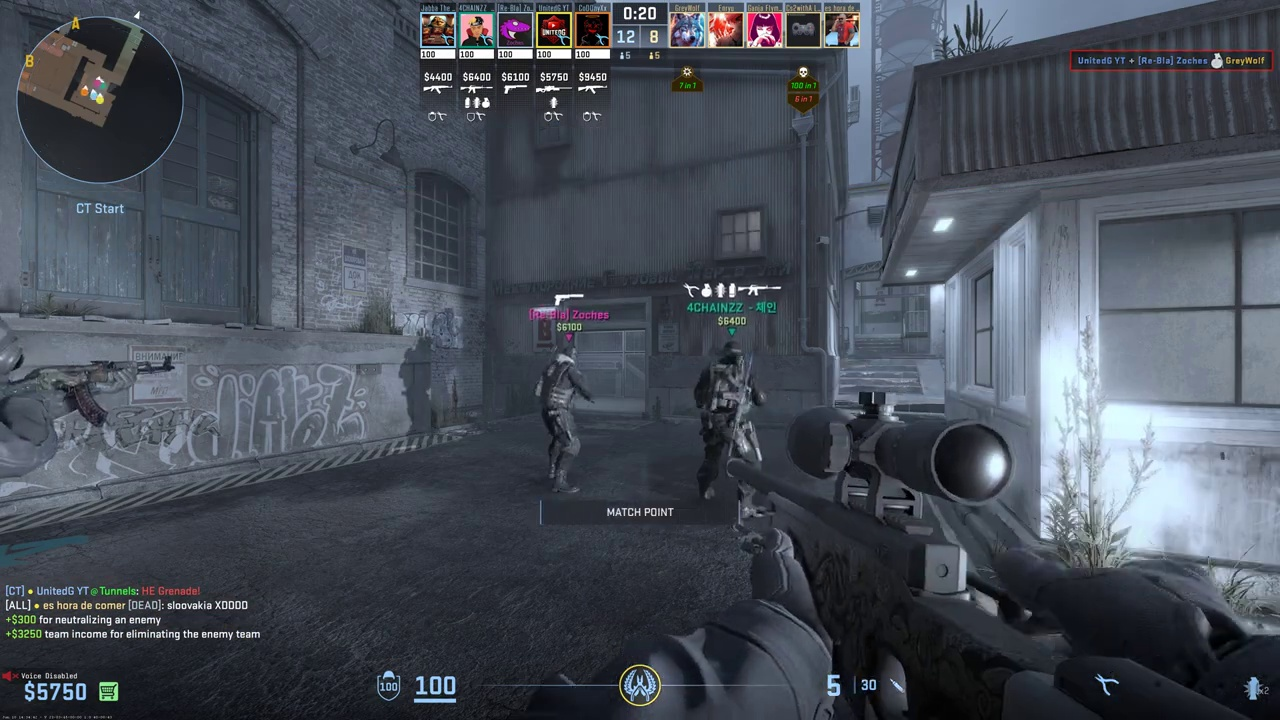CT: (695, 341, 766, 516), (0, 314, 56, 476), (541, 346, 587, 492)
